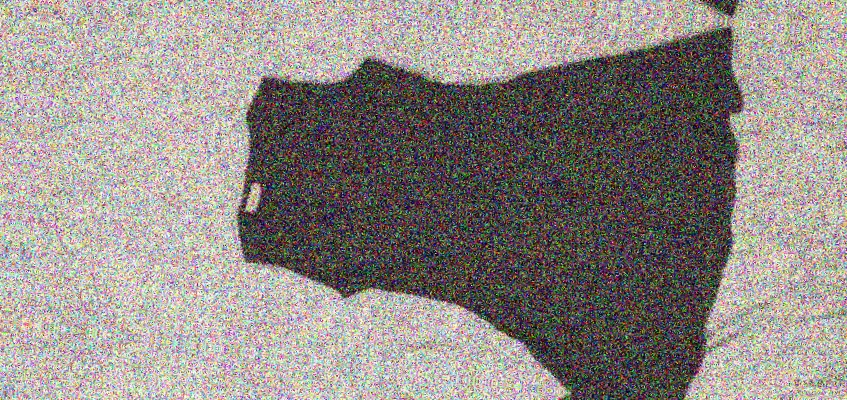Dress: (184, 9, 782, 400), (141, 349, 739, 400)
